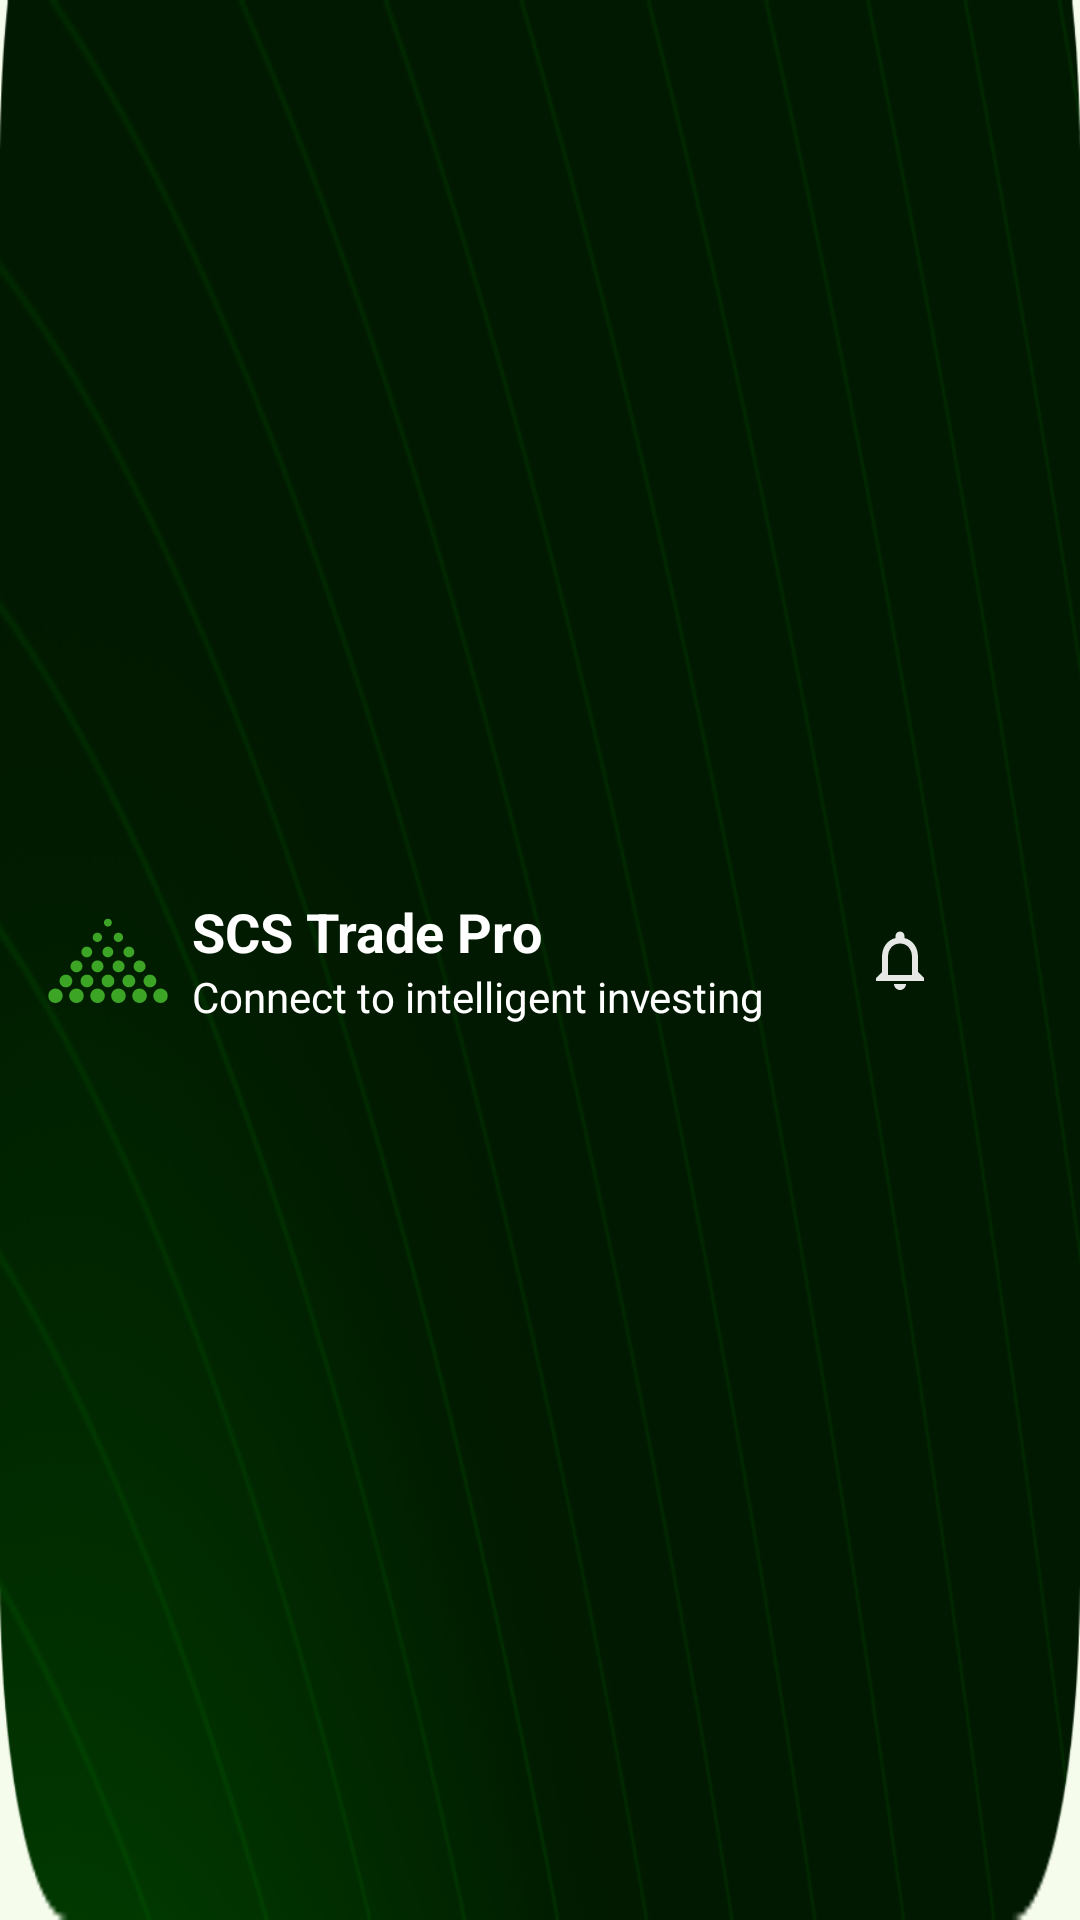

Icons on this 1080×1920 Android screen, each with the point to tap as (x=x, y=y):
Notifications: (x=900, y=960)
